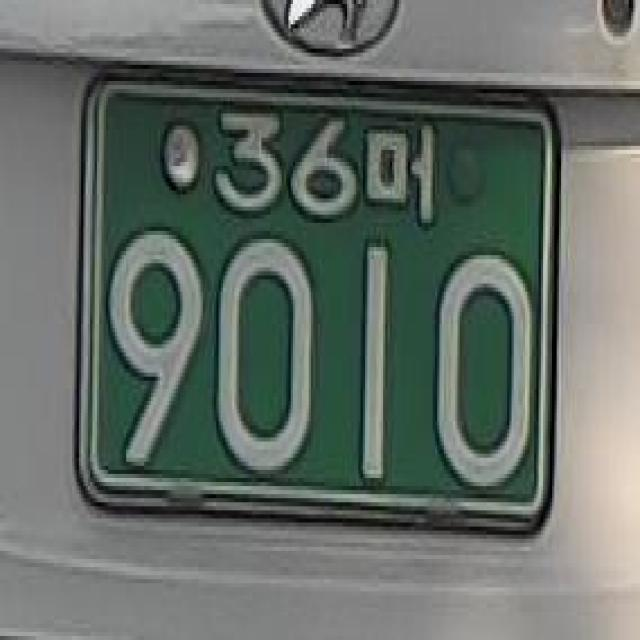illegal_plate: (65, 50, 585, 562)
